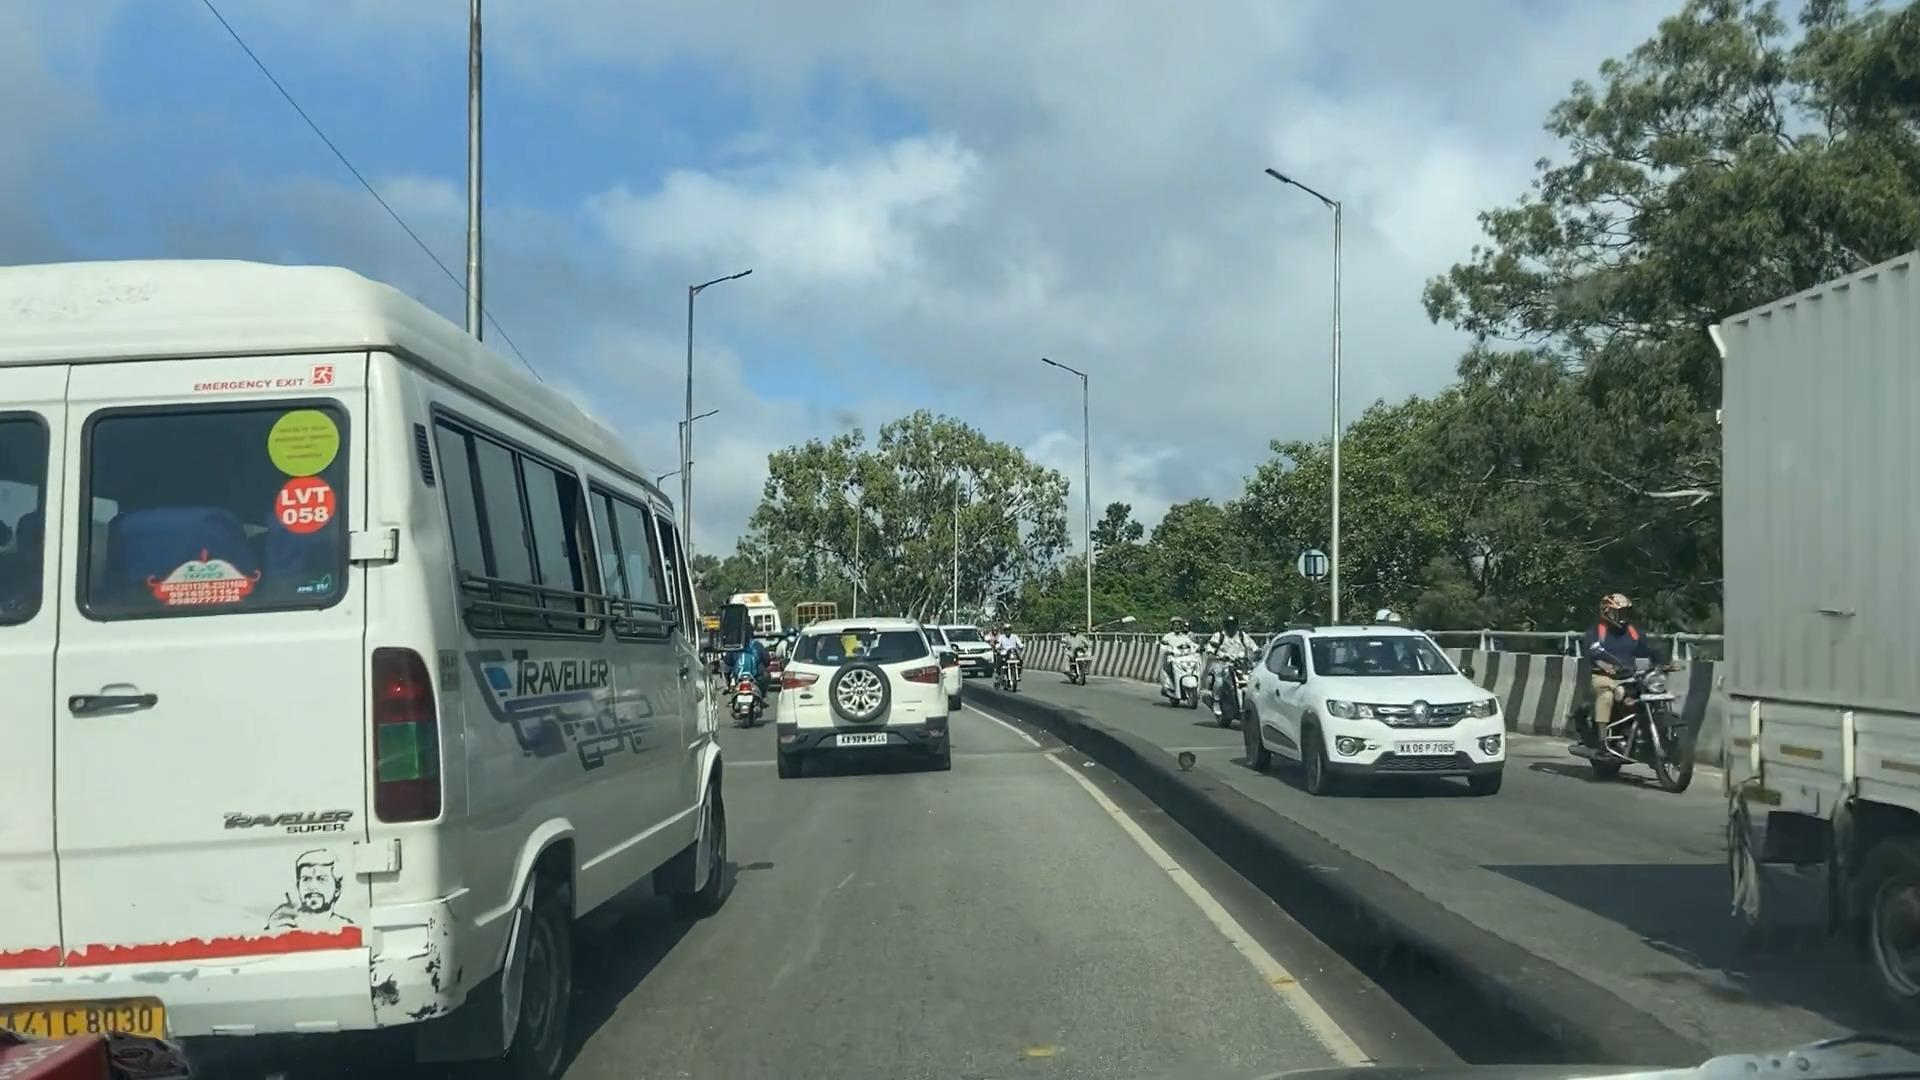HMV: (4, 249, 715, 1064)
LMV: (778, 615, 948, 754), (735, 625, 771, 716)
SpeedBump: (952, 745, 1055, 769), (704, 748, 783, 777)
